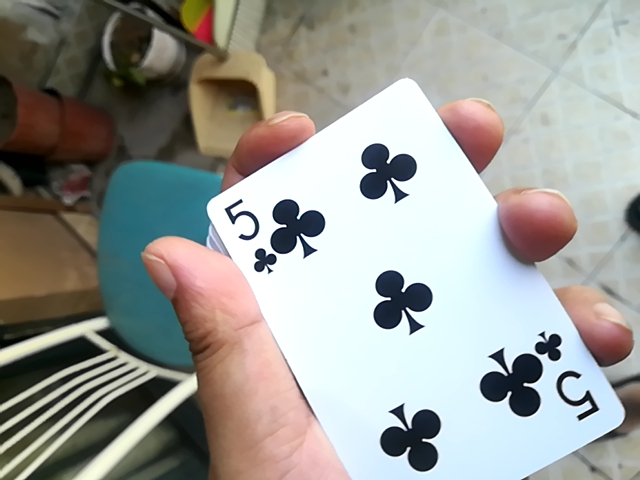mh 5: (182, 70, 620, 480)
